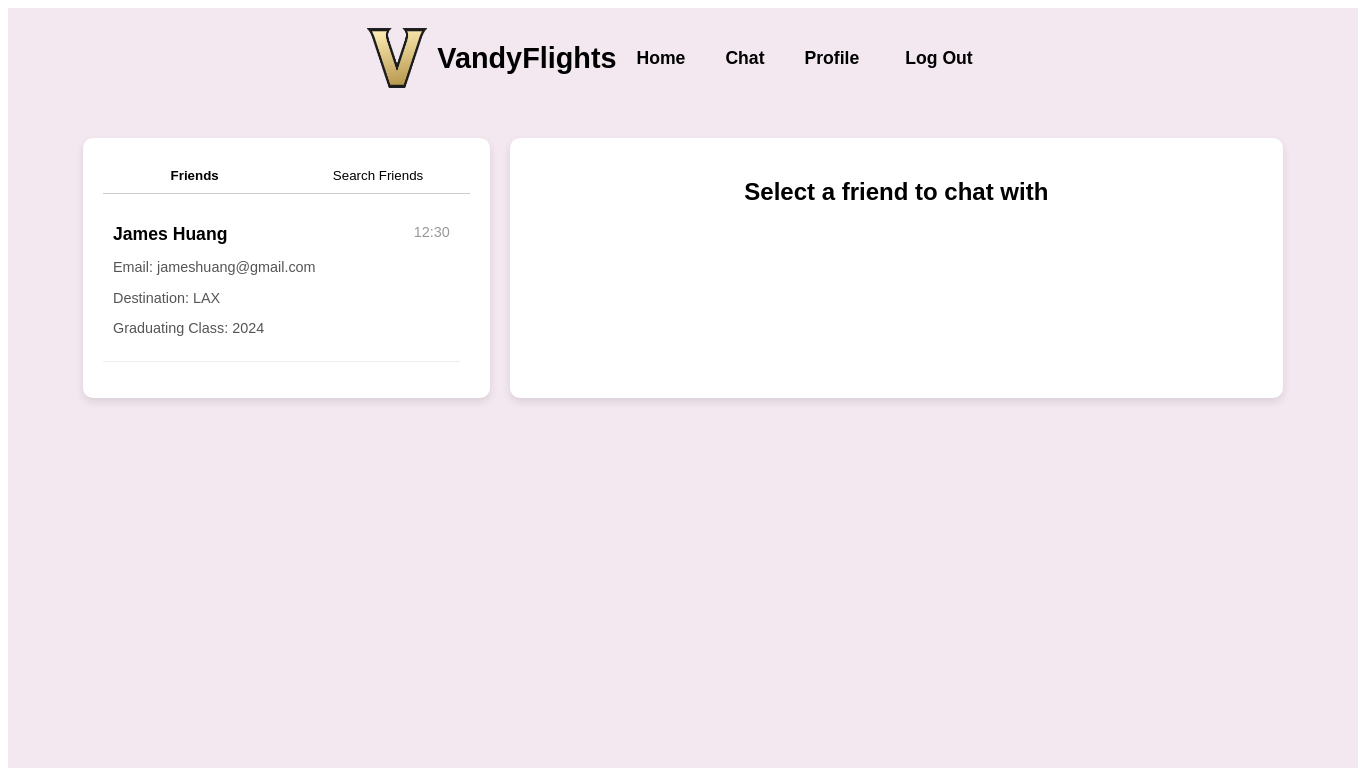
Test: ChatPage › filters search results based on query
Click the button "Search Friends".
click(378, 176)  # box [286,158,470,193]
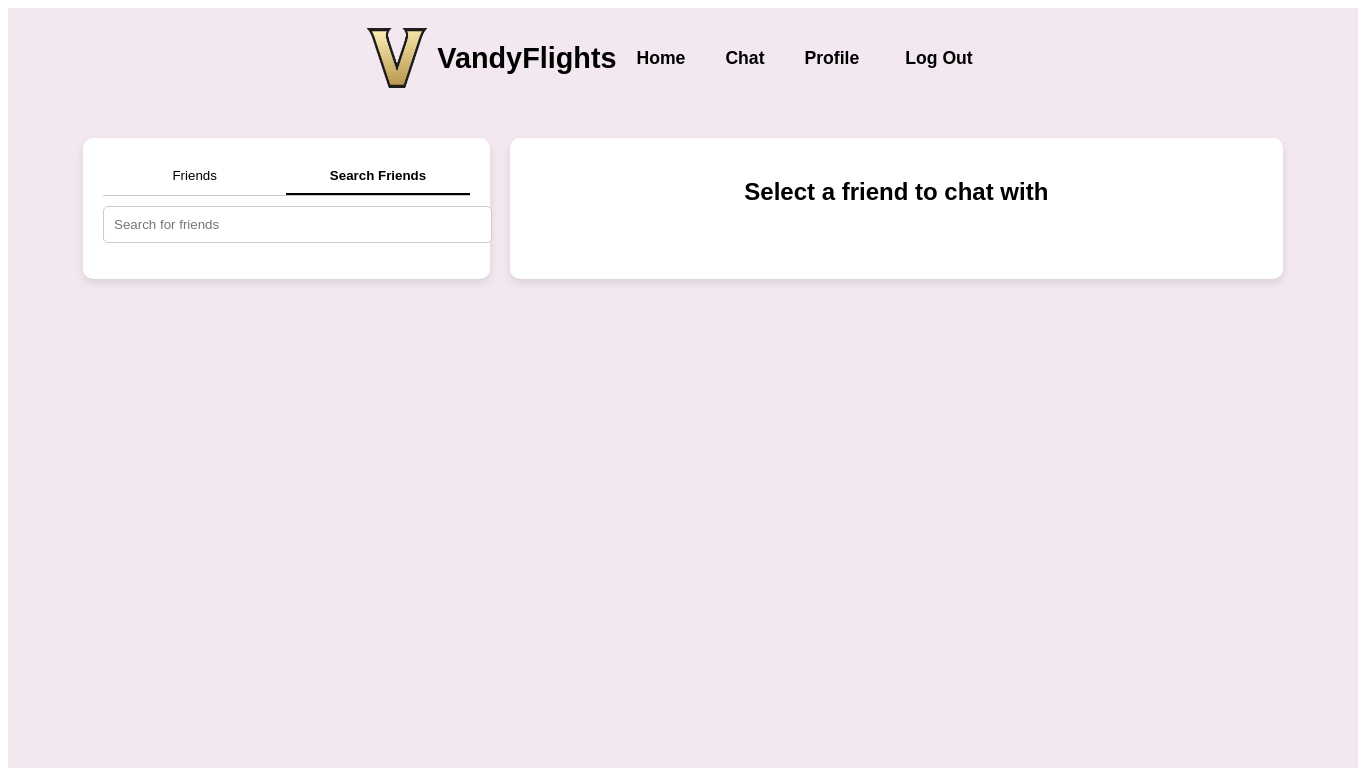
Type "Jane" into the field with placeholder "Search for friends".
click(297, 224); type("Jane")  # box [103,206,492,243]
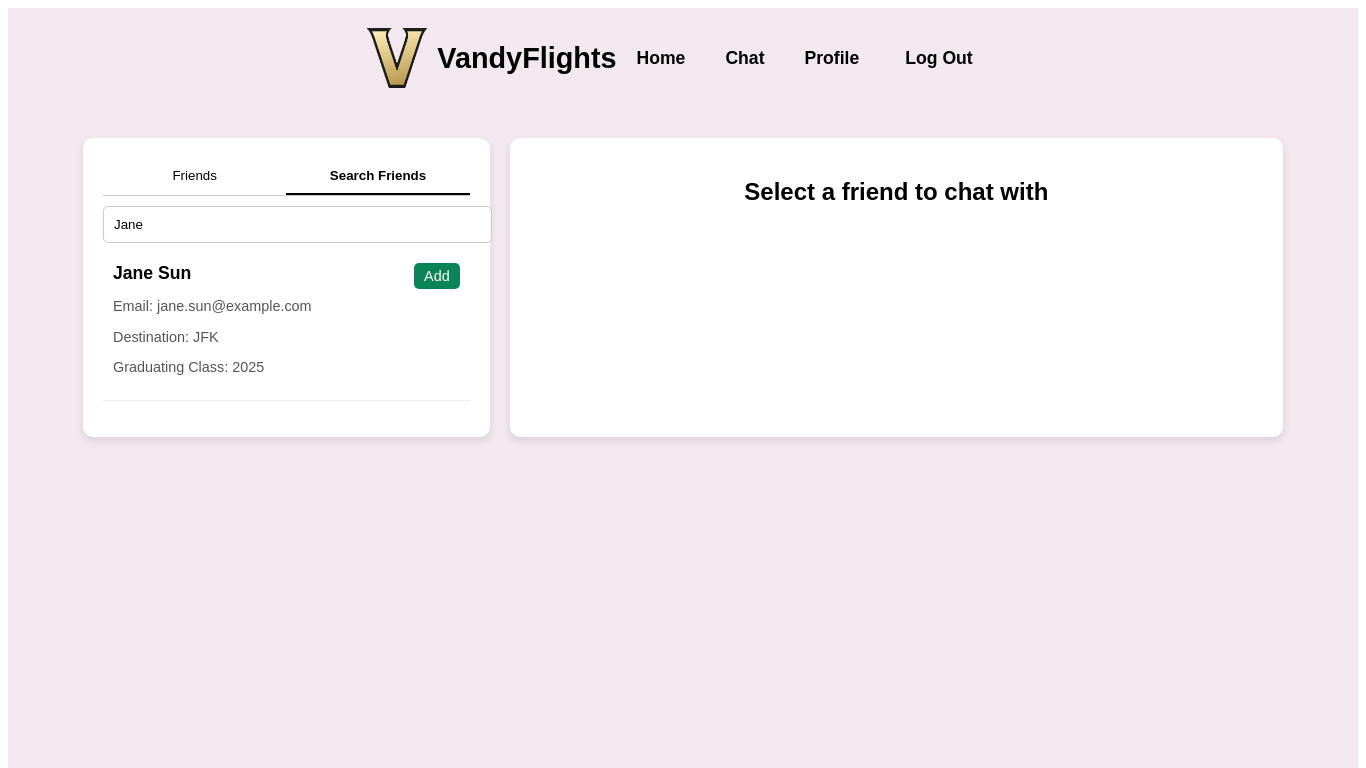
Expected: the text "Jane Sun" is shown, [113,263,191,283]
